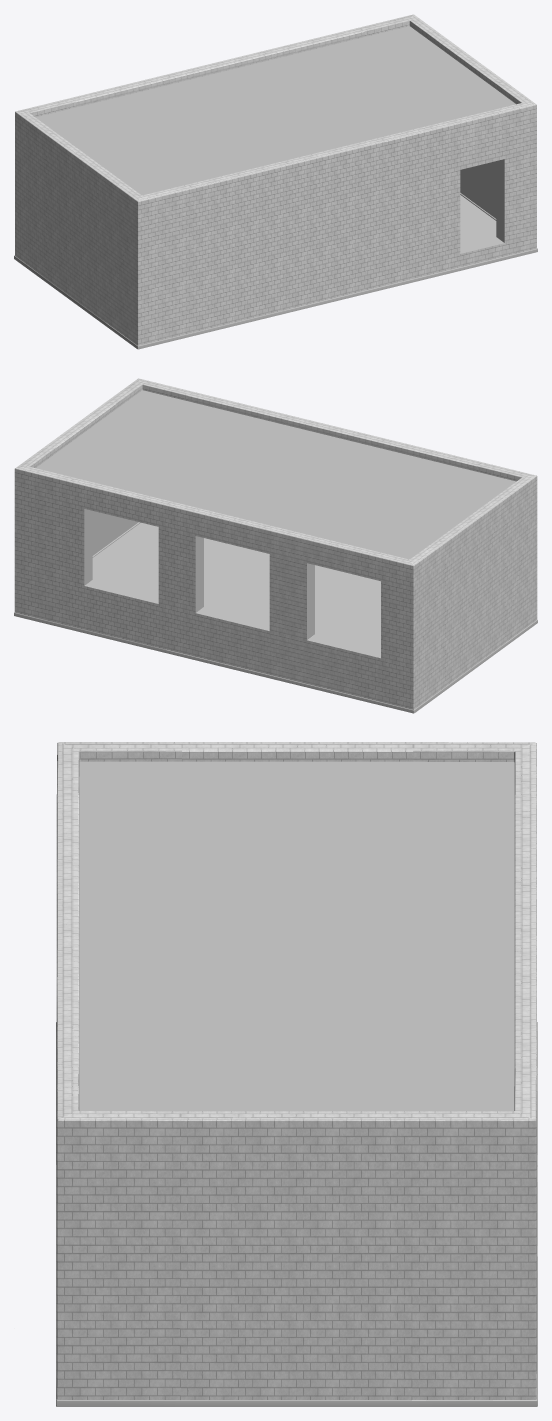
File: building.fbx
The picture shows the model from 3 angles, top to bottom: view 1: azimuth 30°, elevation 25°; view 2: azimuth 150°, elevation 25°; view 3: azimuth 270°, elevation 25°; orthographic projection. The views are drawn at different scales.
Visible parts, largest first — view 1: building; view 2: building; view 3: building.
Boxes of the visible parts, <box> form: building: <box>14,14,537,349</box>; building: <box>14,378,537,713</box>; building: <box>56,742,537,1406</box>.
Bounding box in the file's own units: 1080 × 383 × 630.
